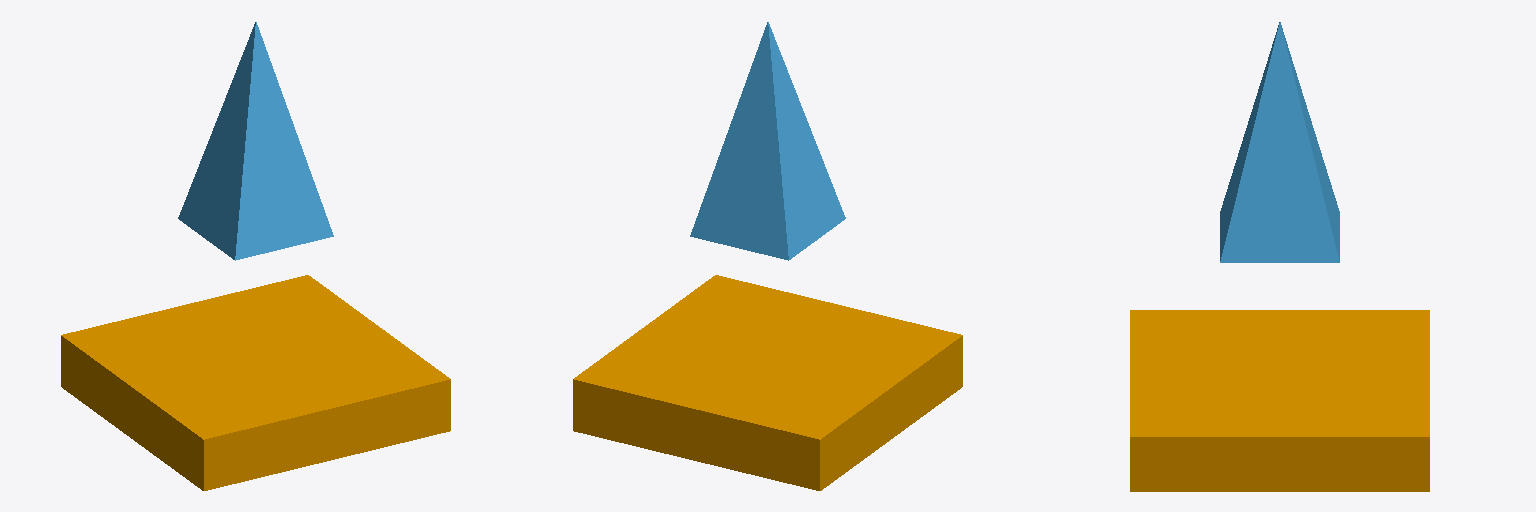
The robot description file, URDF, robot "sample_robot":
<?xml version="1.0"?>
<robot name="sample_robot">
  <link name="base_link">
    <visual>
      <origin xyz="0 0 0" rpy="0 0 0"/>
      <geometry>
        <mesh filename="meshes/base_link.stl"/>
      </geometry>
    </visual>
  </link>

  <link name="link1">
    <visual>
      <origin xyz="0 0 0.02" rpy="0 0 0"/>
      <geometry>
        <mesh filename="meshes/link1.stl"/>
      </geometry>
    </visual>
  </link>

  <joint name="joint1" type="revolute">
    <parent link="base_link"/>
    <child link="link1"/>
    <origin xyz="0 0 0.05" rpy="0 0 0"/>
    <axis xyz="0 0 1"/>
    <limit lower="-3.14159" upper="3.14159" effort="1.0" velocity="1.0"/>
  </joint>
</robot>

--- Render facts (derived) ---
3 views of the same robot in one strip: view 1: azimuth 30°, elevation 25°; view 2: azimuth 150°, elevation 25°; view 3: azimuth 270°, elevation 25° (orthographic).
Robot: sample_robot — 2 links, 1 joints (1 revolute); root link base_link; default pose: every joint at zero.
Links seen in each view (by area): view 1: base_link, link1; view 2: base_link, link1; view 3: base_link, link1.
Boxes of the visible links, x1,y1,x2,y2 form: base_link: (61, 275, 450, 490); link1: (178, 22, 333, 260); base_link: (573, 275, 962, 490); link1: (690, 22, 845, 260); base_link: (1130, 310, 1429, 491); link1: (1220, 22, 1339, 262).
Size in the robot's own frame: 0.1 by 0.1 by 0.15 metres.
Meshes: 2 distinct files referenced, 2 mesh visuals loaded (2 ASCII STL).
